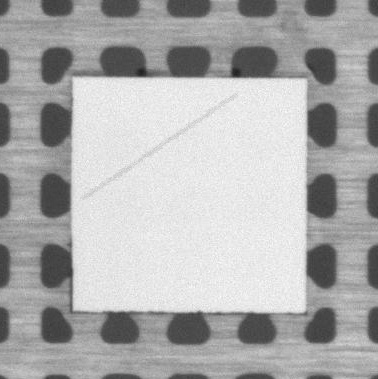DIE_CRACK: (82, 95, 235, 200)
